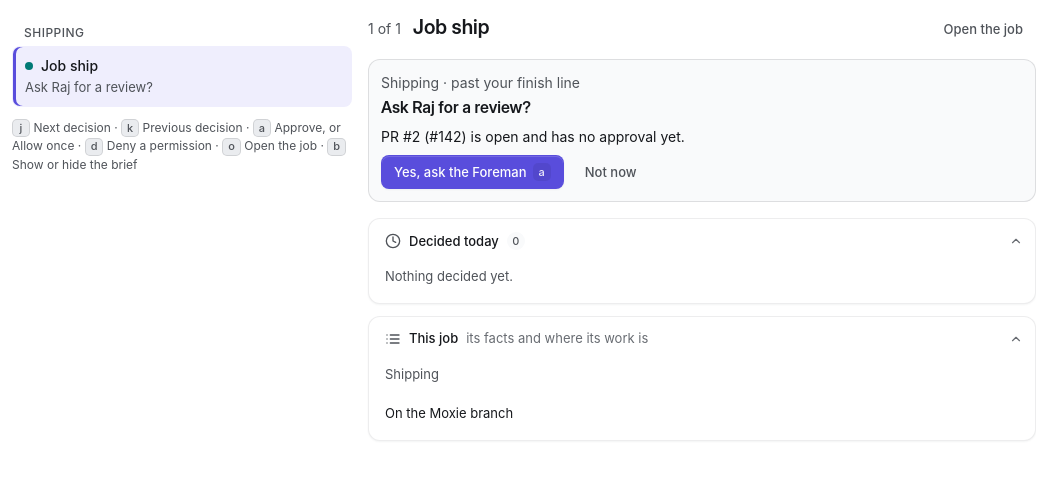
the Desk › a refused yes stays on the card and says why
This screenshot has width=1048, height=485.
Click the button "Yes, ask the Foreman a" at (472, 172), box top-left (381, 155), bottom-right (564, 189)
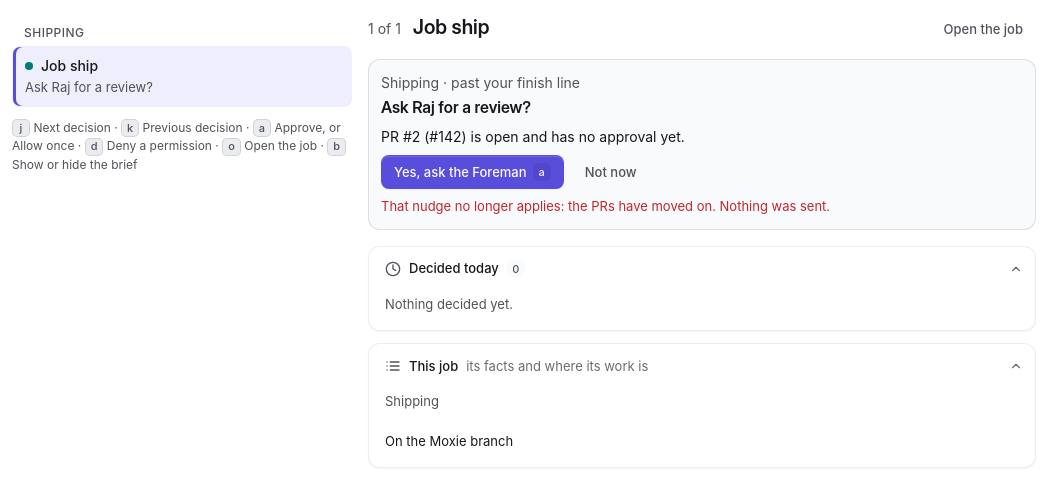
Check: the message shows "That nudge no longer applies", box top-left (381, 198), bottom-right (830, 214)
